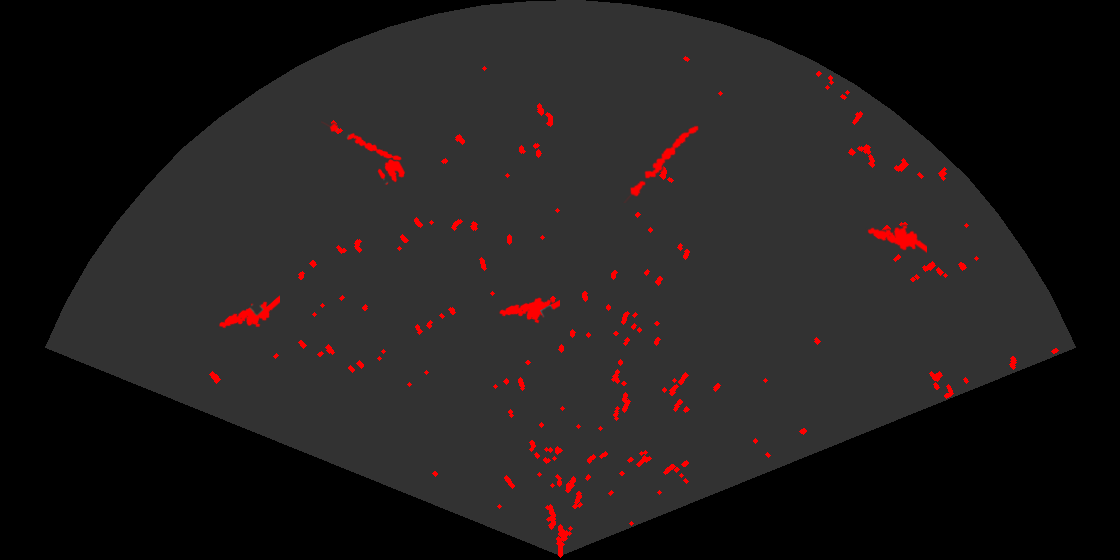ball: (376, 157, 407, 187)
chain: (622, 124, 700, 203), (321, 120, 403, 162)
frogman: (217, 294, 280, 330), (865, 224, 927, 255), (498, 296, 560, 325)
